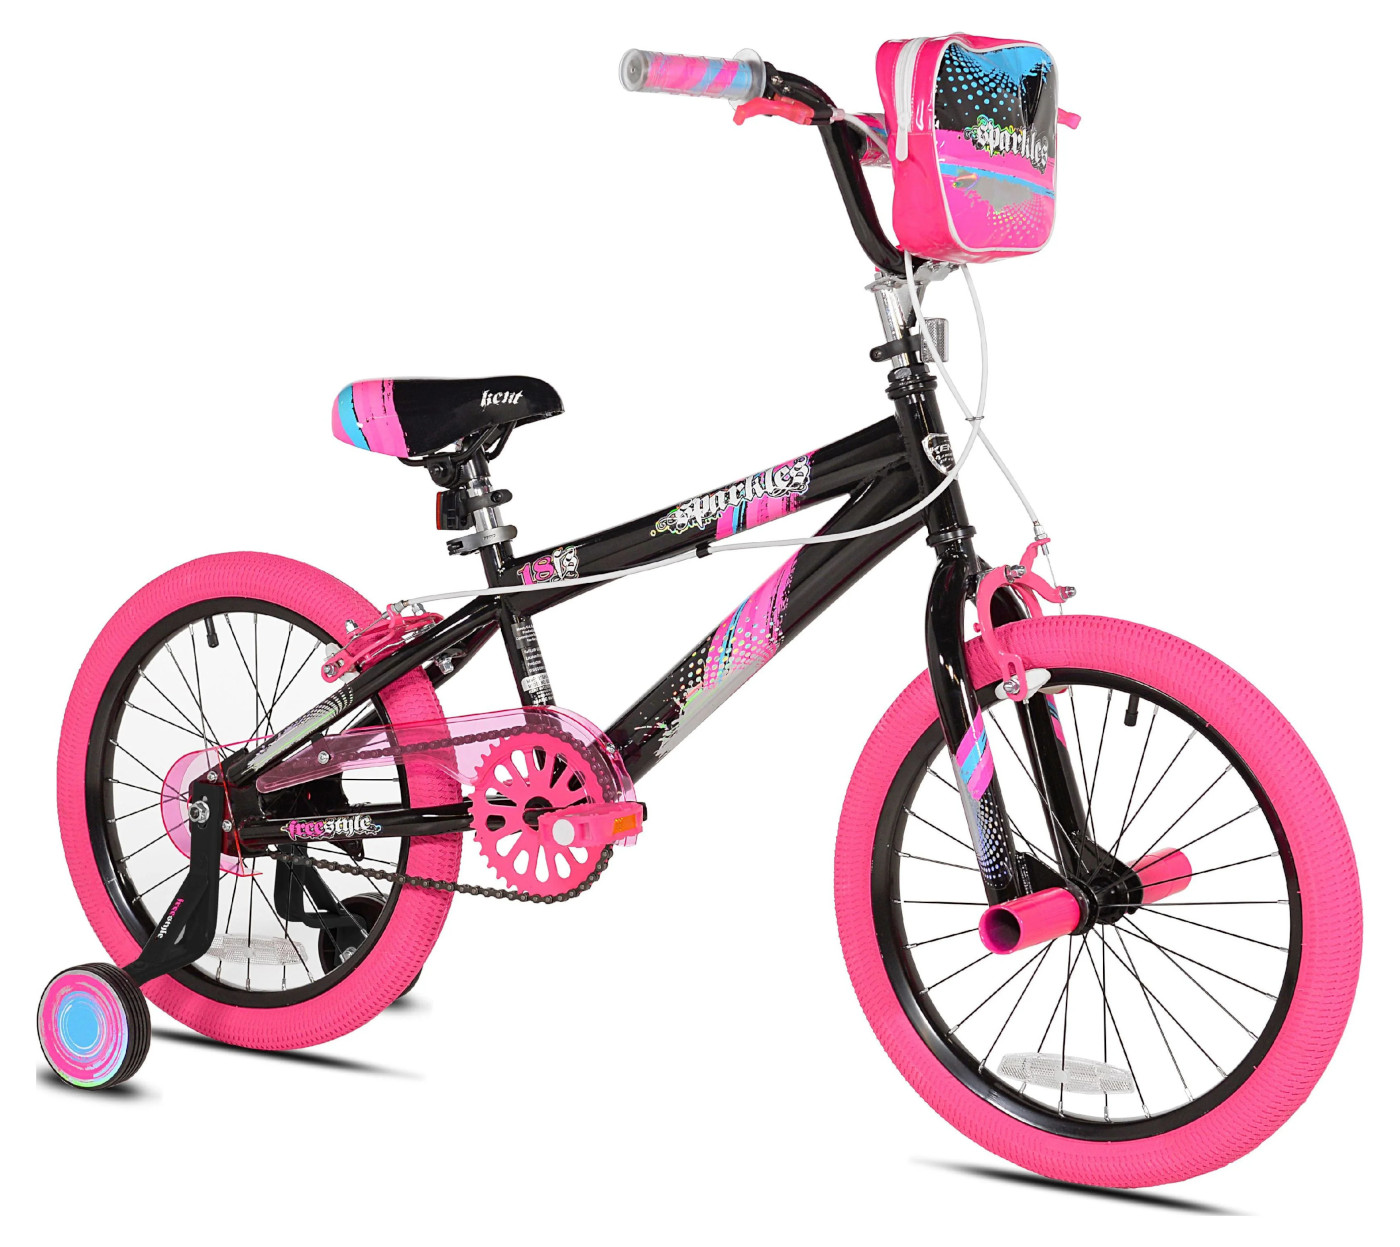bicycle: (33, 30, 1367, 1194)
